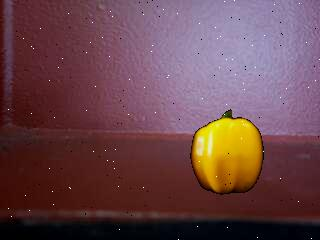Capsicum: (190, 107, 266, 196)
